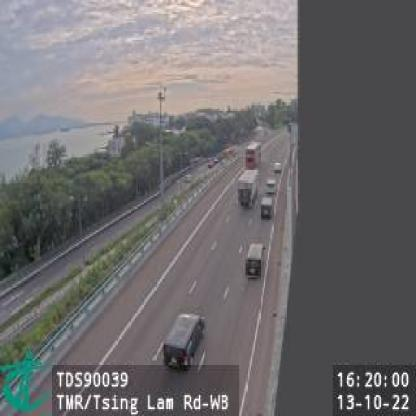Bus: (244, 143, 260, 168)
Car: (164, 308, 206, 372), (244, 242, 266, 280), (260, 196, 274, 220), (266, 178, 276, 192), (273, 160, 283, 172)
Truck: (237, 169, 259, 208)
